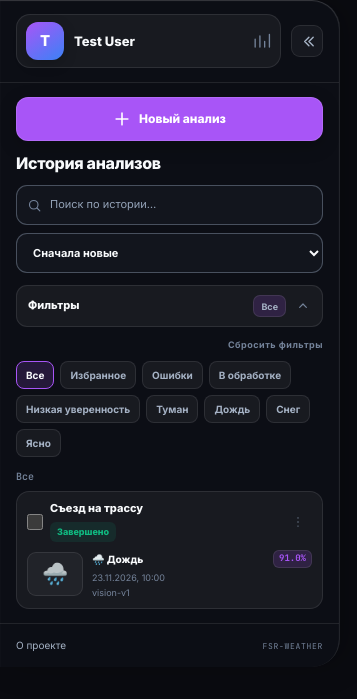
Test: History sidebar actions menu › keeps the actions menu interactive after opening the three-dot button
Click the button named "Действия для Съезд на трассу" at (298, 522), box [284, 508, 312, 536]
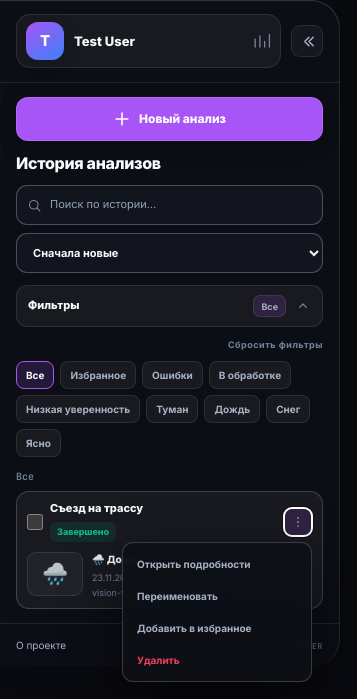
Now the menu named "Действия для Съезд на трассу" is shown, box [122, 542, 312, 682]
Now the button named "Действия для Съезд на трассу" is expanded, box [284, 508, 312, 536]
Click the menu item "Добавить в избранное" at (217, 628), box [128, 612, 306, 644]
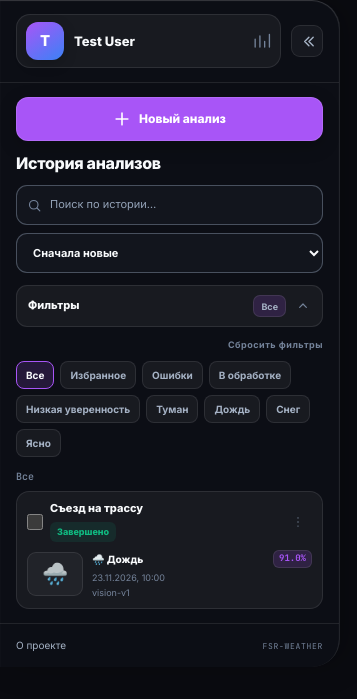
Now the menu is gone
